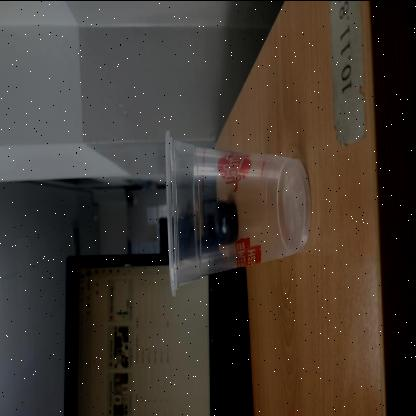Others: (166, 128, 310, 296)
